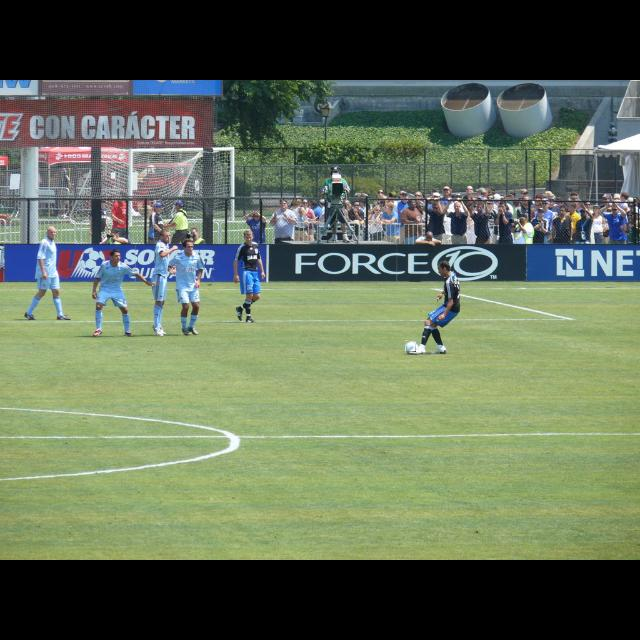Football: (406, 340, 416, 352)
